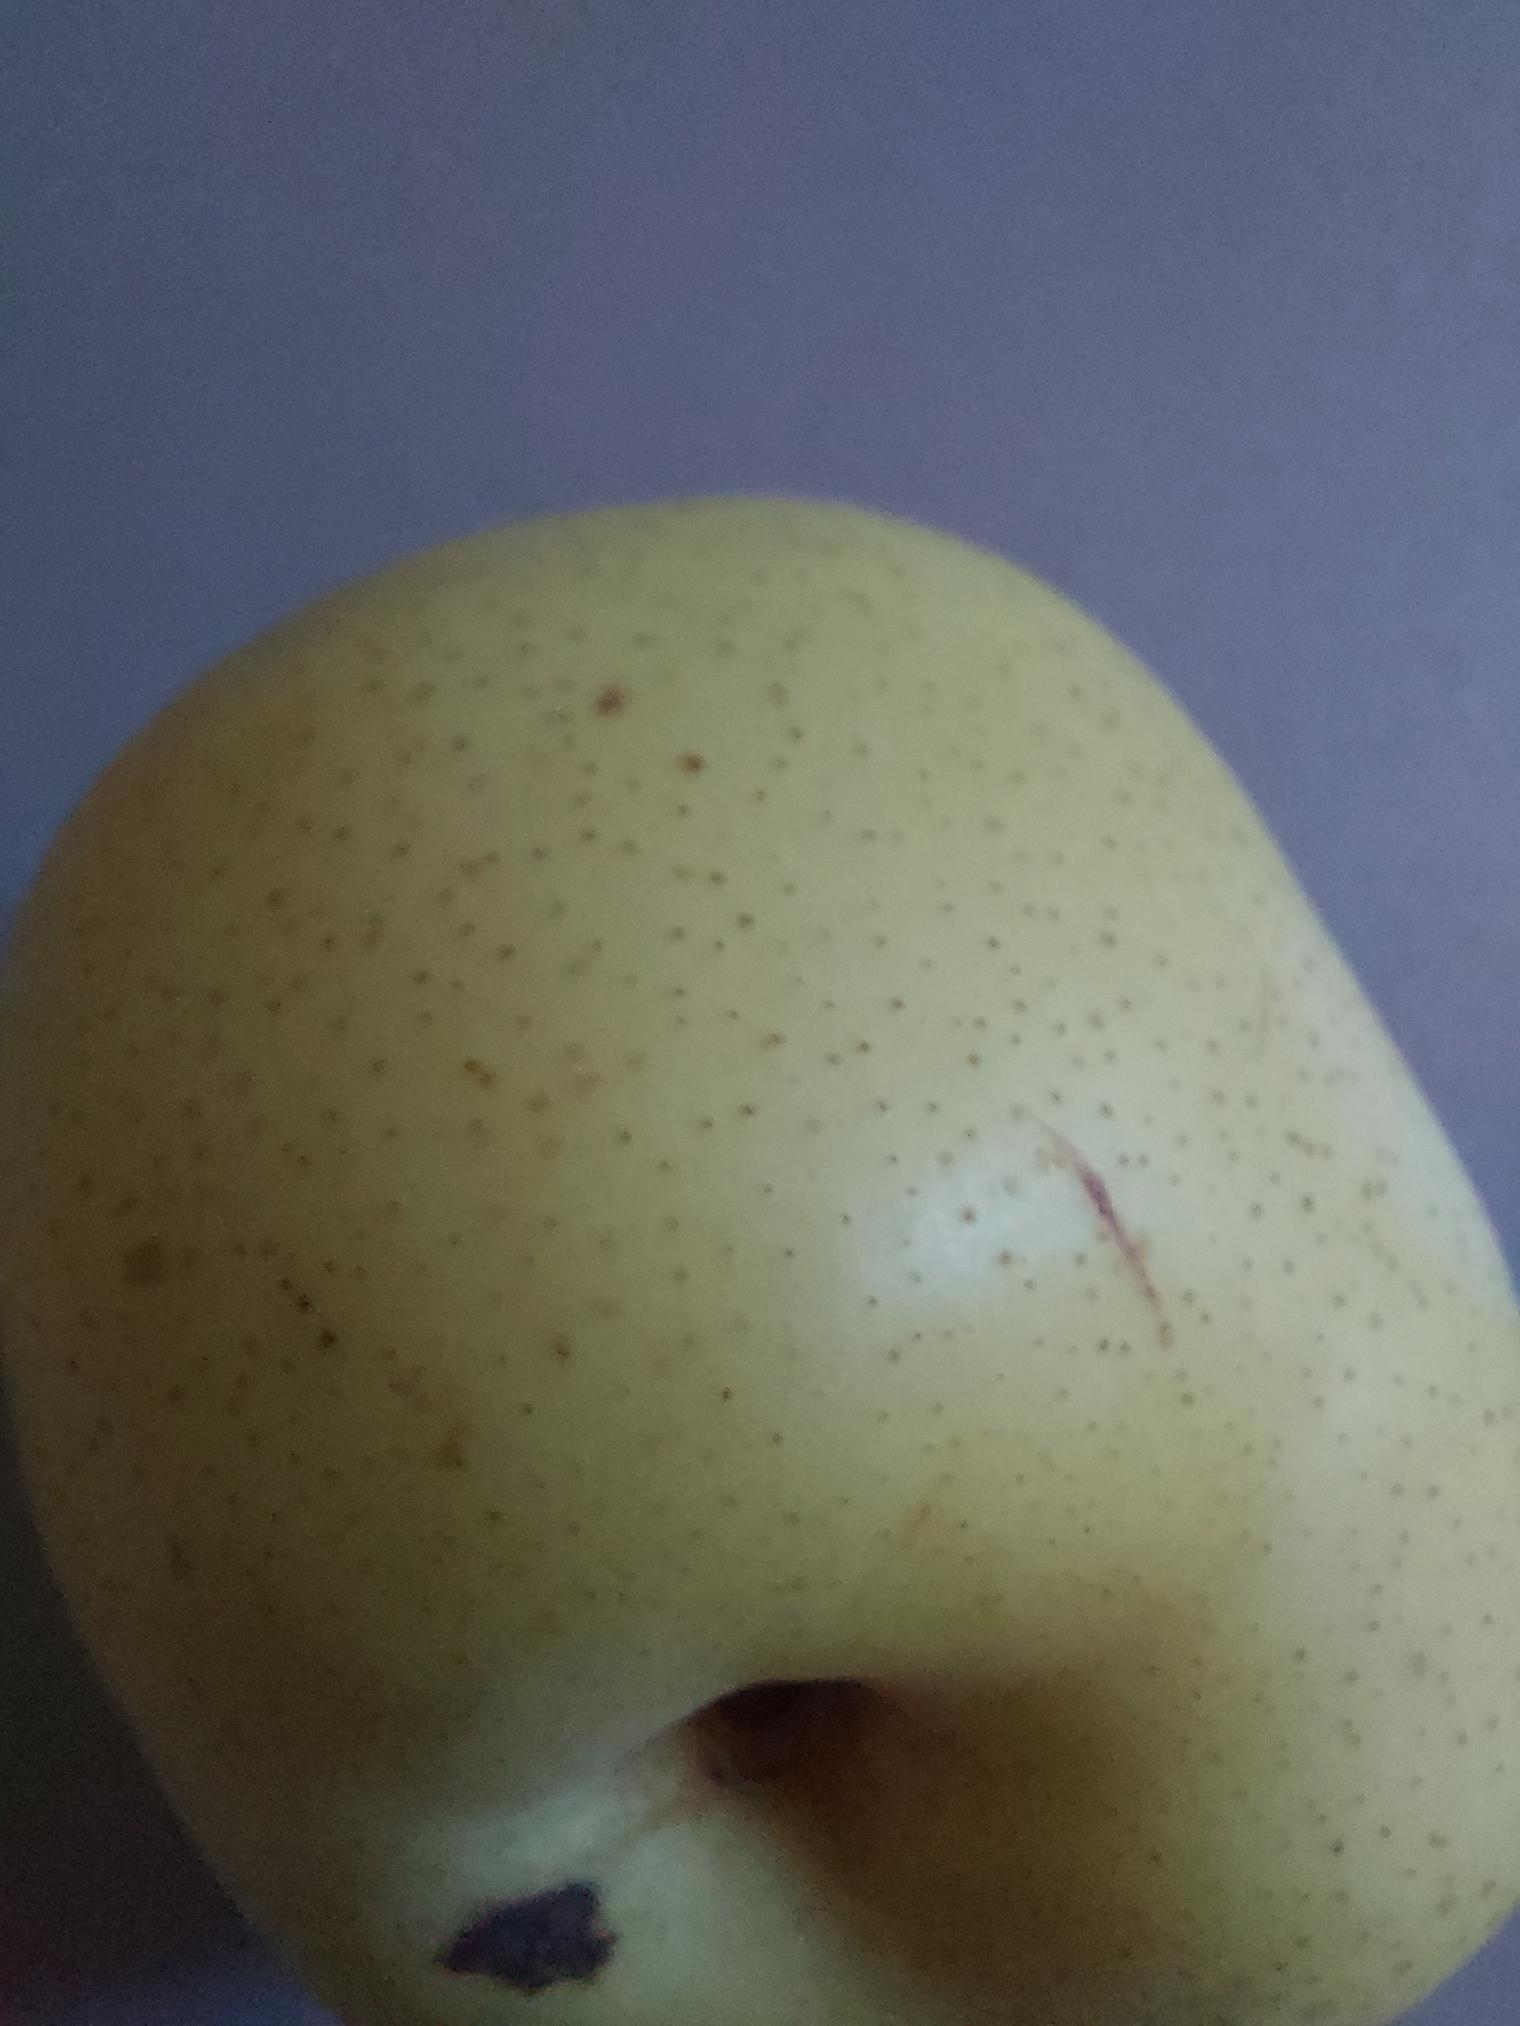Good Pear: (0, 475, 1520, 2026)
